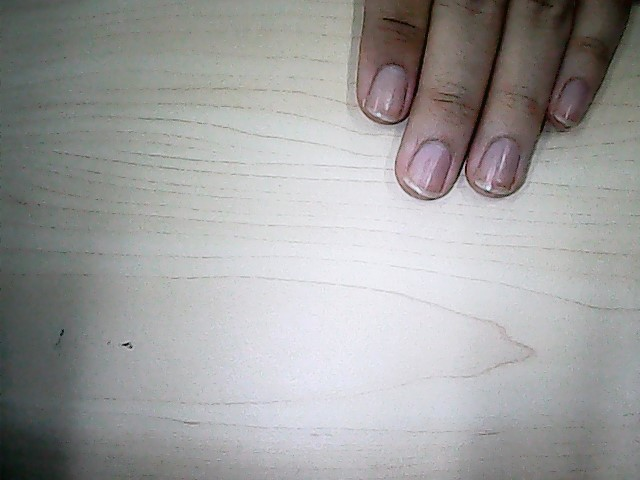nail: (406, 140, 448, 196), (479, 138, 517, 196), (370, 69, 404, 121), (561, 79, 584, 124)
